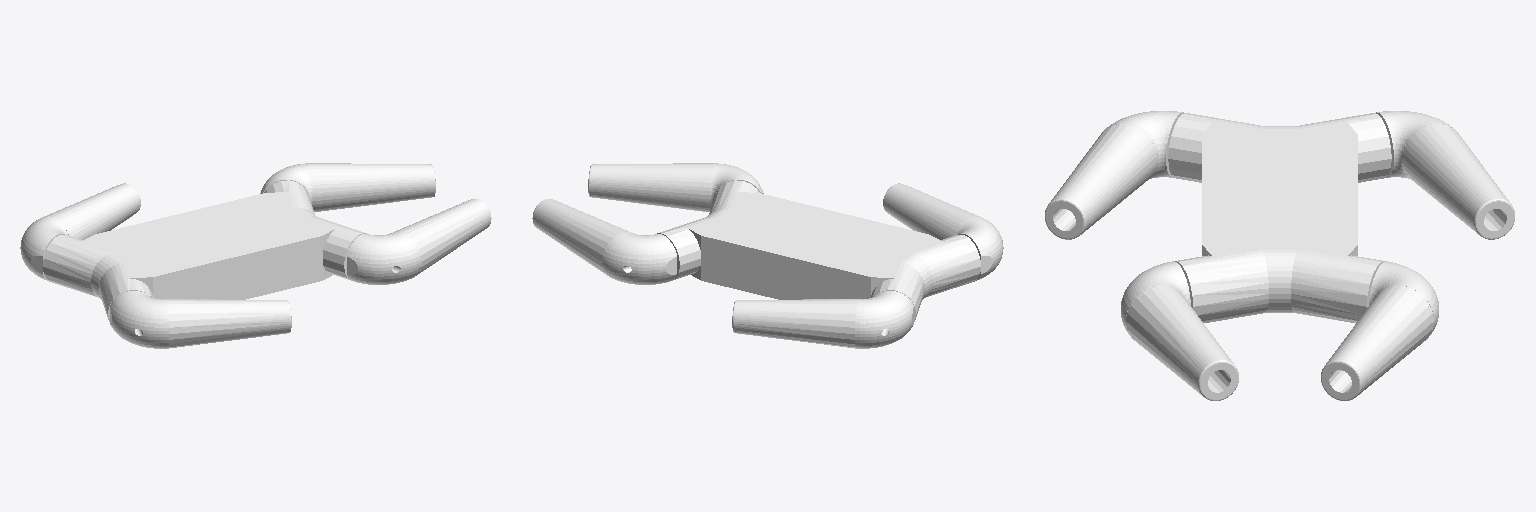
URDF robot description (22_degree):
<?xml version="1.0" encoding="utf-8"?>
<!-- This URDF was automatically created by SolidWorks to URDF Exporter! Originally created by [author] ([email redacted]) 
     Commit Version: 1.5.1-0-g916b5db  Build Version: 1.5.7152.31018
     For more information, please see http://wiki.ros.org/sw_urdf_exporter -->
<robot
  name="22_degree">
  <link
    name="base_link">
    <inertial>
      <origin
        xyz="-2.7756E-17 7.0955E-08 8.6736E-18"
        rpy="0 0 0" />
      <mass
        value="2.803" />
      <inertia
        ixx="0.009632017"
        ixy="-3.633E-18"
        ixz="-9.999E-09"
        iyy="0.043802277"
        iyz="3.1296E-19"
        izz="0.05105977" />
    </inertial>
    <visual>
      <origin
        xyz="0 0 0"
        rpy="0 0 0" />
      <geometry>
        <mesh
          filename="package://22_degree/meshes/base_link.STL" />
      </geometry>
      <material
        name="">
        <color
          rgba="1 1 1 1" />
      </material>
    </visual>
    <collision>
      <origin
        xyz="0 0 0"
        rpy="0 0 0" />
      <geometry>
        <mesh
          filename="package://22_degree/meshes/base_link.STL" />
      </geometry>
    </collision>
  </link>
  <link
    name="left_fromt_link">
    <inertial>
      <origin
        xyz="-9.0751E-08 0.077628 -0.0079032"
        rpy="0 0 0" />
      <mass
        value="0.0941" />
      <inertia
        ixx="0.000371308"
        ixy="3.1188E-10"
        ixz="5.4336E-10"
        iyy="0.00007881"
        iyz="-0.000091745"
        izz="0.000341676" />
    </inertial>
    <visual>
      <origin
        xyz="0 0 0"
        rpy="0 0 0" />
      <geometry>
        <mesh
          filename="package://22_degree/meshes/left_fromt_link.STL" />
      </geometry>
      <material
        name="">
        <color
          rgba="1 1 1 1" />
      </material>
    </visual>
    <collision>
      <origin
        xyz="0 0 0"
        rpy="0 0 0" />
      <geometry>
        <mesh
          filename="package://22_degree/meshes/left_fromt_link.STL" />
      </geometry>
    </collision>
  </link>
  <joint
    name="left_front_leg"
    type="continuous">
    <origin
      xyz="0.16858 0.0955 0"
      rpy="1.5708 1.5708 0" />
    <parent
      link="base_link" />
    <child
      link="left_fromt_link" />
    <axis
      xyz="0 0.37461 -0.92718" />
    <limit
      effort="5"
      velocity="487" />
  </joint>
  <link
    name="right_front_link">
    <inertial>
      <origin
        xyz="9.0751E-08 0.077628 0.0079032"
        rpy="0 0 0" />
      <mass
        value="0.0941" />
      <inertia
        ixx="0.000371308"
        ixy="-3.1188E-10"
        ixz="5.4336E-10"
        iyy="0.00007881"
        iyz="0.000091745"
        izz="0.000341676" />
    </inertial>
    <visual>
      <origin
        xyz="0 0 0"
        rpy="0 0 0" />
      <geometry>
        <mesh
          filename="package://22_degree/meshes/right_front_link.STL" />
      </geometry>
      <material
        name="">
        <color
          rgba="1 1 1 1" />
      </material>
    </visual>
    <collision>
      <origin
        xyz="0 0 0"
        rpy="0 0 0" />
      <geometry>
        <mesh
          filename="package://22_degree/meshes/right_front_link.STL" />
      </geometry>
    </collision>
  </link>
  <joint
    name="right_front_leg"
    type="continuous">
    <origin
      xyz="0.16858 -0.0955 0"
      rpy="1.5708 1.5708 0" />
    <parent
      link="base_link" />
    <child
      link="right_front_link" />
    <axis
      xyz="0 0.37461 0.92718" />
    <limit
      effort="5"
      velocity="487" />
  </joint>
  <link
    name="right_back_link">
    <inertial>
      <origin
        xyz="7.4734E-08 0.069016 0.036408"
        rpy="0 0 0" />
      <mass
        value="0.0941" />
      <inertia
        ixx="0.000371308"
        ixy="-3.7038E-10"
        ixz="1.9574E-10"
        iyy="0.000051967"
        iyz="-0.000025306"
        izz="0.00036852" />
    </inertial>
    <visual>
      <origin
        xyz="0 0 0"
        rpy="0 0 0" />
      <geometry>
        <mesh
          filename="package://22_degree/meshes/right_back_link.STL" />
      </geometry>
      <material
        name="">
        <color
          rgba="1 1 1 1" />
      </material>
    </visual>
    <collision>
      <origin
        xyz="0 0 0"
        rpy="0 0 0" />
      <geometry>
        <mesh
          filename="package://22_degree/meshes/right_back_link.STL" />
      </geometry>
    </collision>
  </link>
  <joint
    name="right_back_leg"
    type="continuous">
    <origin
      xyz="-0.16858 -0.0955 0"
      rpy="1.9548 1.5708 0" />
    <parent
      link="base_link" />
    <child
      link="right_back_link" />
    <axis
      xyz="0 0 1" />
    <limit
      effort="5"
      velocity="487" />
  </joint>
  <link
    name="left_back_link">
    <inertial>
      <origin
        xyz="-7.4734E-08 0.050352 -0.05961"
        rpy="0 0 0" />
      <mass
        value="0.0941" />
      <inertia
        ixx="0.000371308"
        ixy="4.1673E-10"
        ixz="4.2741E-11"
        iyy="0.000113967"
        iyz="0.000128151"
        izz="0.00306519" />
    </inertial>
    <visual>
      <origin
        xyz="0 0 0"
        rpy="0 0 0" />
      <geometry>
        <mesh
          filename="package://22_degree/meshes/left_back_link.STL" />
      </geometry>
      <material
        name="">
        <color
          rgba="1 1 1 1" />
      </material>
    </visual>
    <collision>
      <origin
        xyz="0 0 0"
        rpy="0 0 0" />
      <geometry>
        <mesh
          filename="package://22_degree/meshes/left_back_link.STL" />
      </geometry>
    </collision>
  </link>
  <joint
    name="left_back_leg"
    type="continuous">
    <origin
      xyz="-0.16858 0.0955 0"
      rpy="1.5708 1.5708 0" />
    <parent
      link="base_link" />
    <child
      link="left_back_link" />
    <axis
      xyz="0 -0.37461 -0.92718" />
    <limit
      effort="5"
      velocity="487" />
  </joint>
</robot>

--- Facts derived from the render (not from the file) ---
3 views of the same robot in one strip: view 1: azimuth 30°, elevation 25°; view 2: azimuth 150°, elevation 25°; view 3: azimuth 270°, elevation 25° (orthographic).
Robot: 22_degree — 5 links, 4 joints (4 continuous); root link base_link; default pose: every joint at zero.
Visible links, largest first — view 1: base_link, right_back_link, right_front_link, left_fromt_link, left_back_link; view 2: base_link, left_back_link, left_fromt_link, right_front_link, right_back_link; view 3: base_link, right_back_link, left_back_link, left_fromt_link, right_front_link.
Link boxes in pixels (x1=…): base_link: x1=43, y1=180, x2=366, y2=321; right_back_link: x1=110, y1=291, x2=291, y2=348; right_front_link: x1=347, y1=199, x2=491, y2=284; left_fromt_link: x1=260, y1=163, x2=435, y2=211; left_back_link: x1=20, y1=183, x2=140, y2=281; base_link: x1=657, y1=180, x2=980, y2=321; left_back_link: x1=732, y1=291, x2=913, y2=348; left_fromt_link: x1=532, y1=199, x2=676, y2=284; right_front_link: x1=588, y1=163, x2=763, y2=211; right_back_link: x1=883, y1=183, x2=1003, y2=281; base_link: x1=1168, y1=113, x2=1391, y2=322; right_back_link: x1=1045, y1=111, x2=1183, y2=239; left_back_link: x1=1376, y1=111, x2=1514, y2=239; left_fromt_link: x1=1321, y1=261, x2=1438, y2=400; right_front_link: x1=1121, y1=261, x2=1238, y2=400.
Size in the robot's own frame: 0.5794 by 0.4529 by 0.064 metres.
Meshes: 5 distinct files referenced, 5 mesh visuals loaded (5 binary STL).